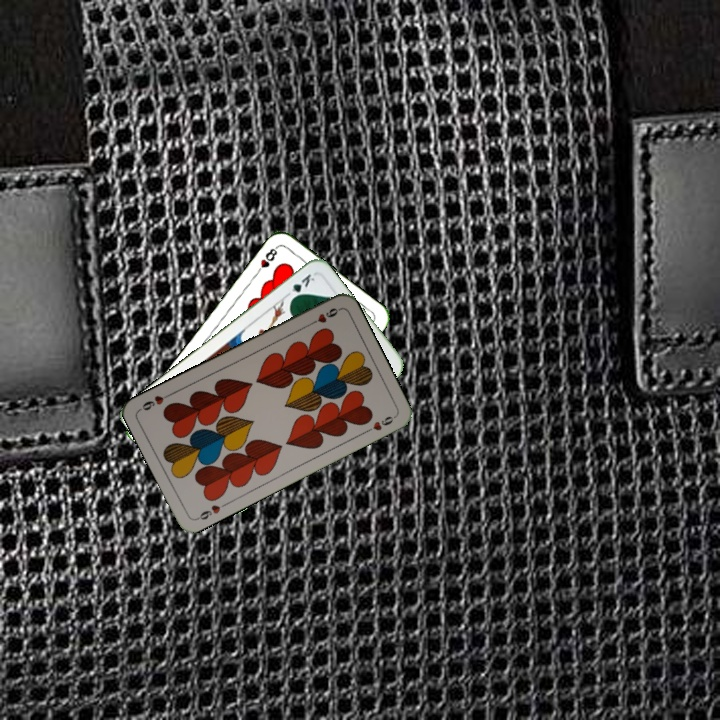GK: (282, 270, 317, 303)
H8: (251, 242, 280, 278)
H9: (305, 304, 343, 328), (192, 501, 223, 523)
